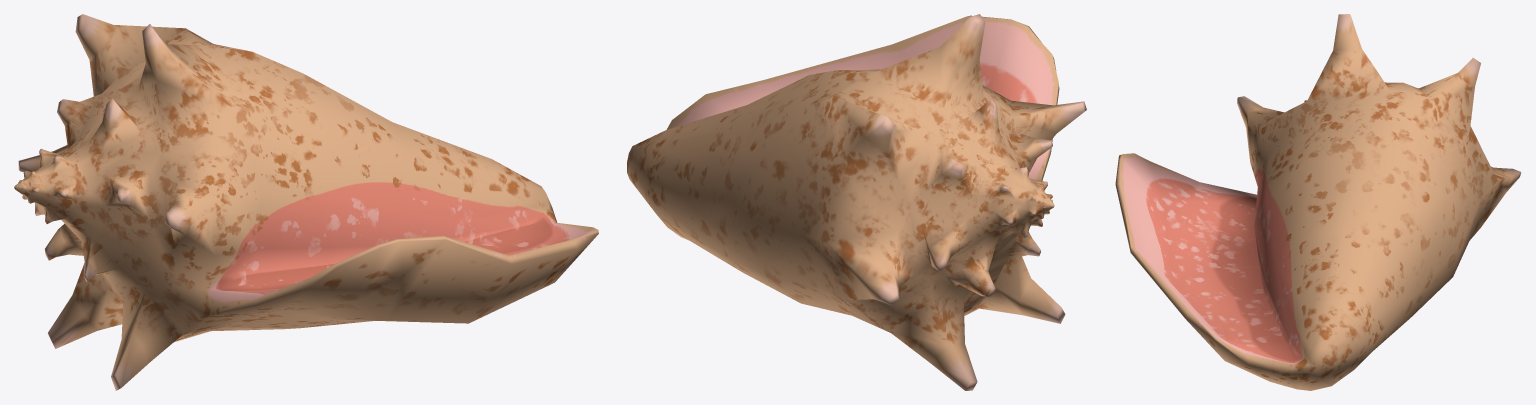
The model's file is QueenConch00_LOD0.fbx.
The picture shows the model from 3 angles, left to right: view 1: azimuth 30°, elevation 25°; view 2: azimuth 150°, elevation 25°; view 3: azimuth 270°, elevation 25°; orthographic projection. The views are drawn at different scales.
Parts seen in each view (by area): view 1: QueenConch00_LOD0; view 2: QueenConch00_LOD0; view 3: QueenConch00_LOD0.
Part boxes in pixels (left/top/right/bottom): QueenConch00_LOD0: left=14, top=14, right=598, bottom=390; QueenConch00_LOD0: left=627, top=14, right=1086, bottom=390; QueenConch00_LOD0: left=1115, top=14, right=1521, bottom=390.
Bounding box in the file's own units: 0.9342 × 0.6306 × 0.8456.
